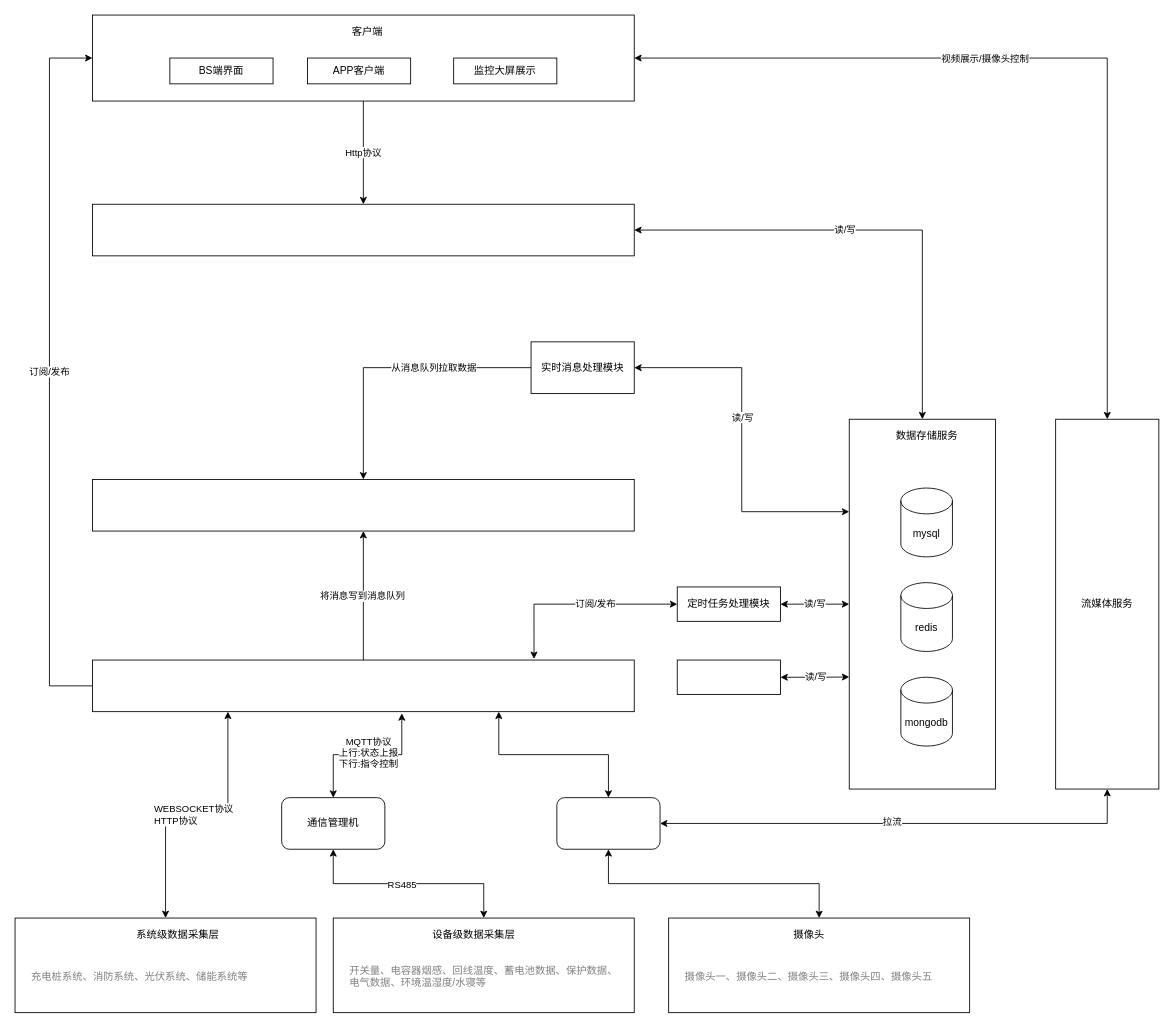
This 1174x1028 diagram has some shape labels left out. Here are the shapes that lost their labels. From the top down, the centre of each, then its label:
At point 363,229: "JAVA接口服务 提供统一标准api接口".
At point 363,505: "Kafka消息队列服务".
At point 363,685: "HTTP服务/WEBSOCKET服务/MQTT服务".
At point 728,676: "离线计算任务模块".
At point 608,823: "网络视频录像机 NVR".
